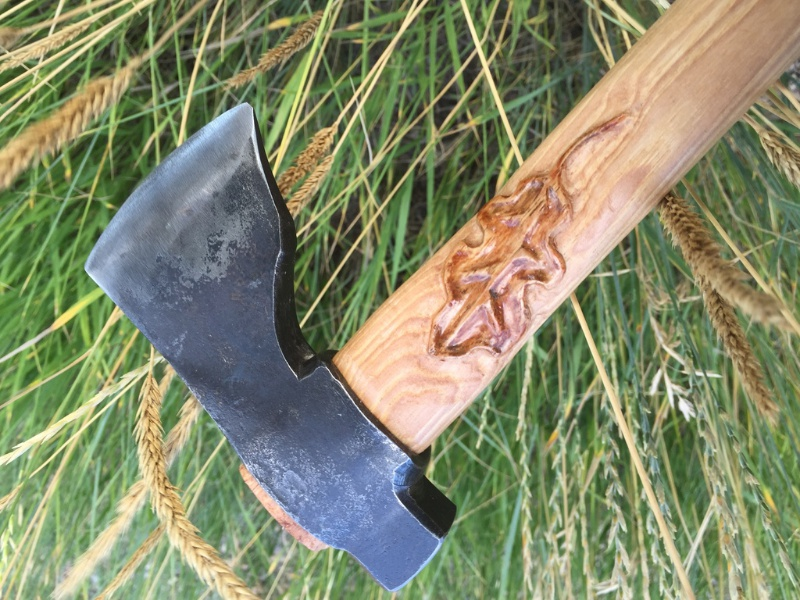axe: (80, 96, 626, 594)
